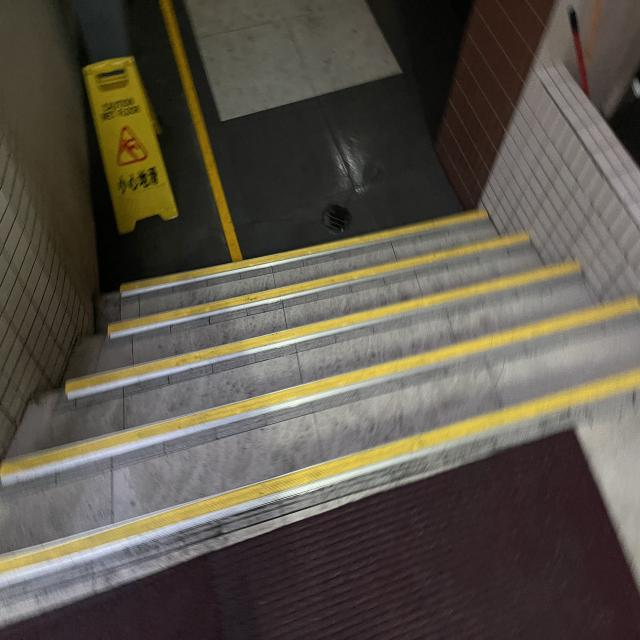Stairs: (0, 178, 640, 637)
